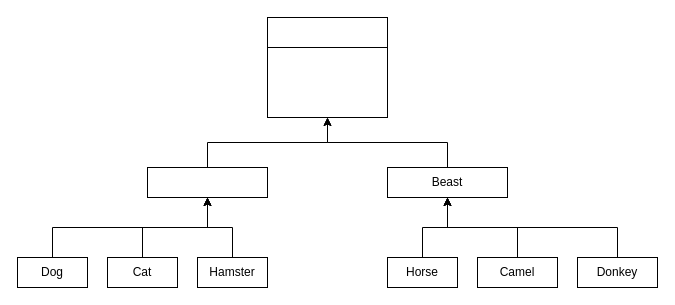
The diagram is 675 pixels wide and 305 high, and some of its shapes have lost their labels. Each missing label, with the box of its shape:
Animal: (266, 16, 388, 48)
name: String age: Date commands: List: (266, 46, 388, 118)
Pet: (146, 166, 268, 198)
